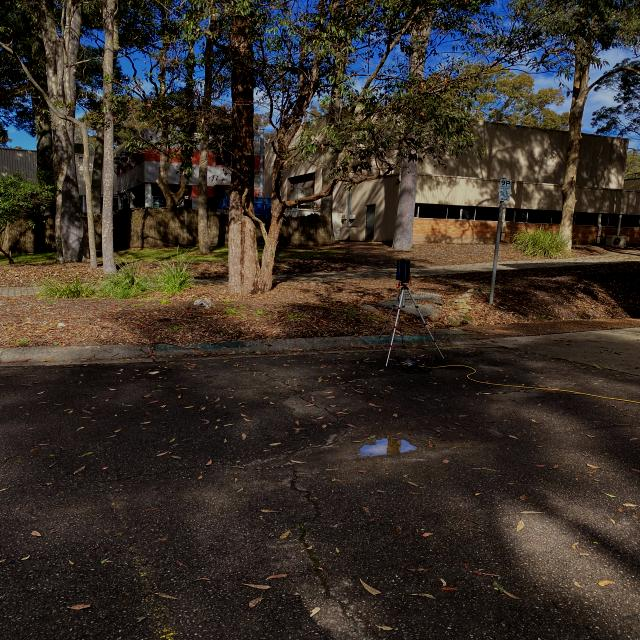matrix: (390, 256, 418, 286)
